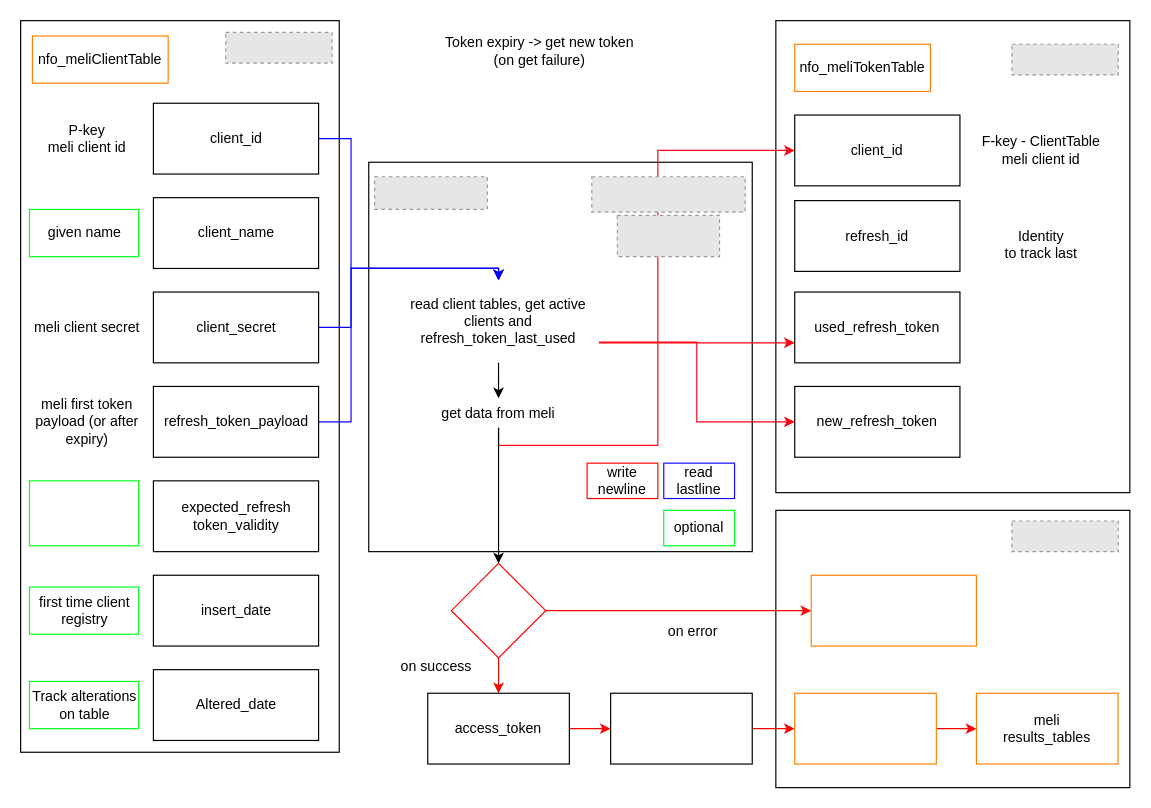
Some shapes in this 1151 by 808 pixel diagram are drawn without their labels. Grey dashed boxes stand in for pictures. The centre of each missing label's shape, as x and y in pixels:
MELI - endpoints: [680,728]
nfo_error: [893,610]
temp_meli results_tables: [865,728]
to ask for a new token and trigger to use token payload: [83,513]
